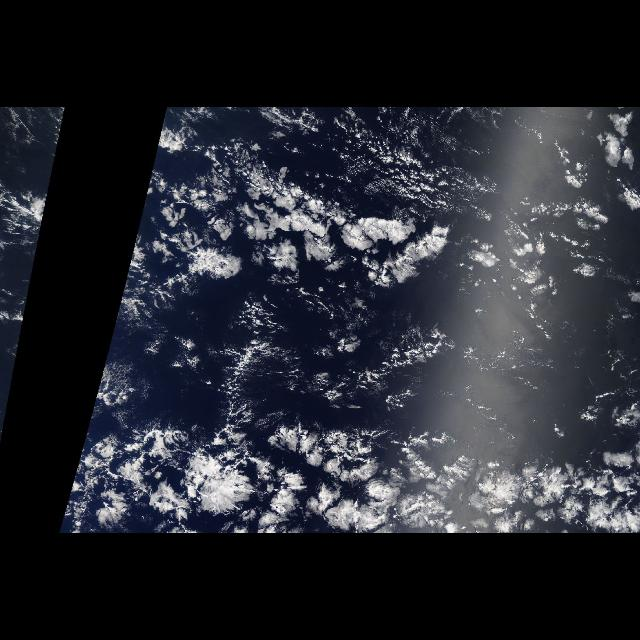Flower: (129, 140, 535, 348), (82, 392, 640, 534)
